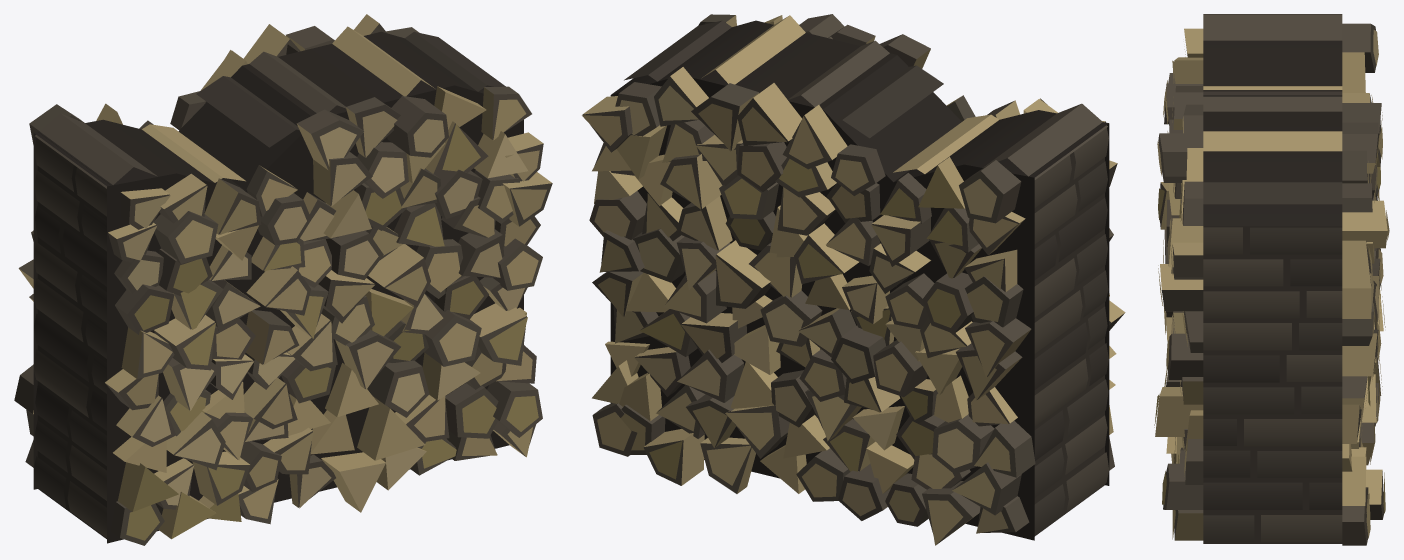
The model's file is cordwood.glb.
3 views of the same model, side by side, from view 1: azimuth 30°, elevation 25°; view 2: azimuth 150°, elevation 25°; view 3: azimuth 270°, elevation 25° (orthographic). The views are drawn at different scales.
Parts seen in each view (by area): view 1: Cordwood; view 2: Cordwood; view 3: Cordwood.
Part boxes in pixels (box(x1,y1,x2,y2)): Cordwood: box(14, 14, 552, 545); Cordwood: box(582, 14, 1125, 545); Cordwood: box(1154, 14, 1389, 545).
Size of the model in its own units: 2 by 1.8 by 1.
